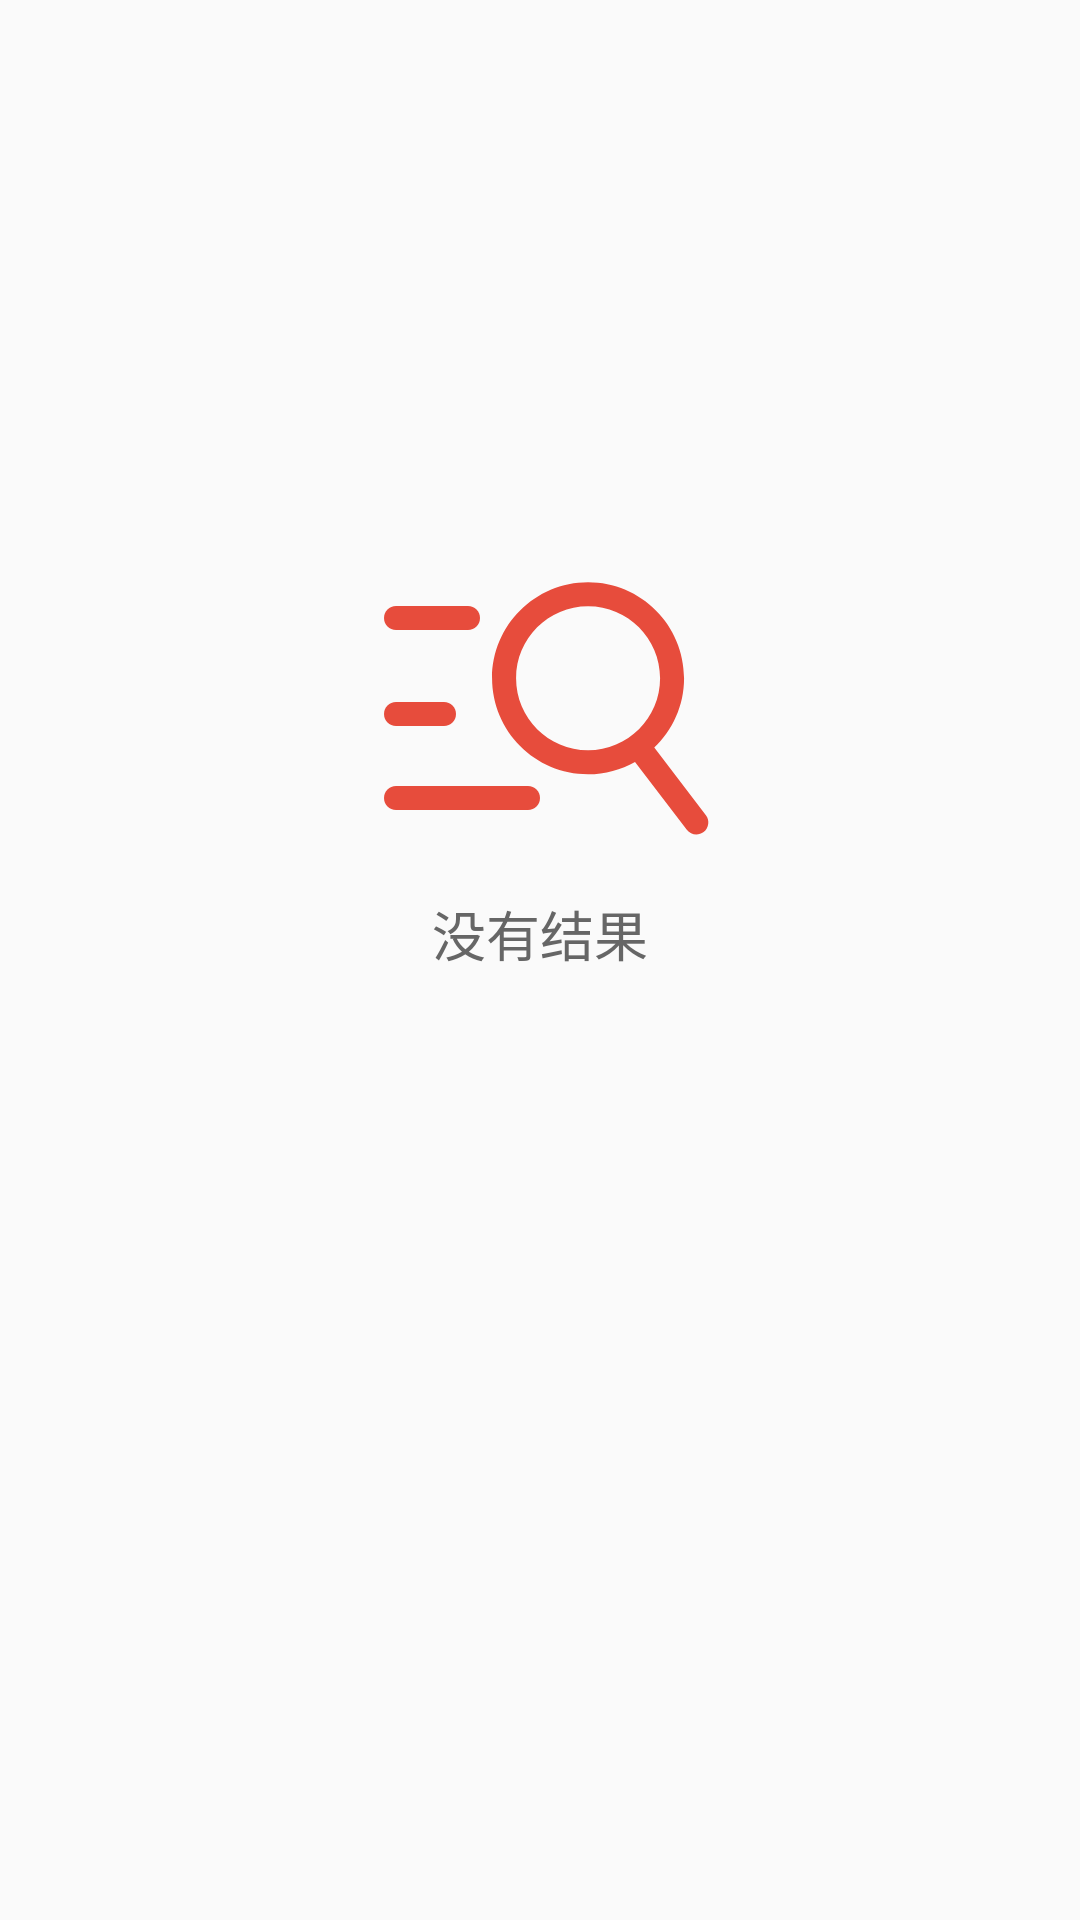

Icons on this 1080px x 1920px Android screen, each with the point to tap as (x,y):
search: (546,708)
